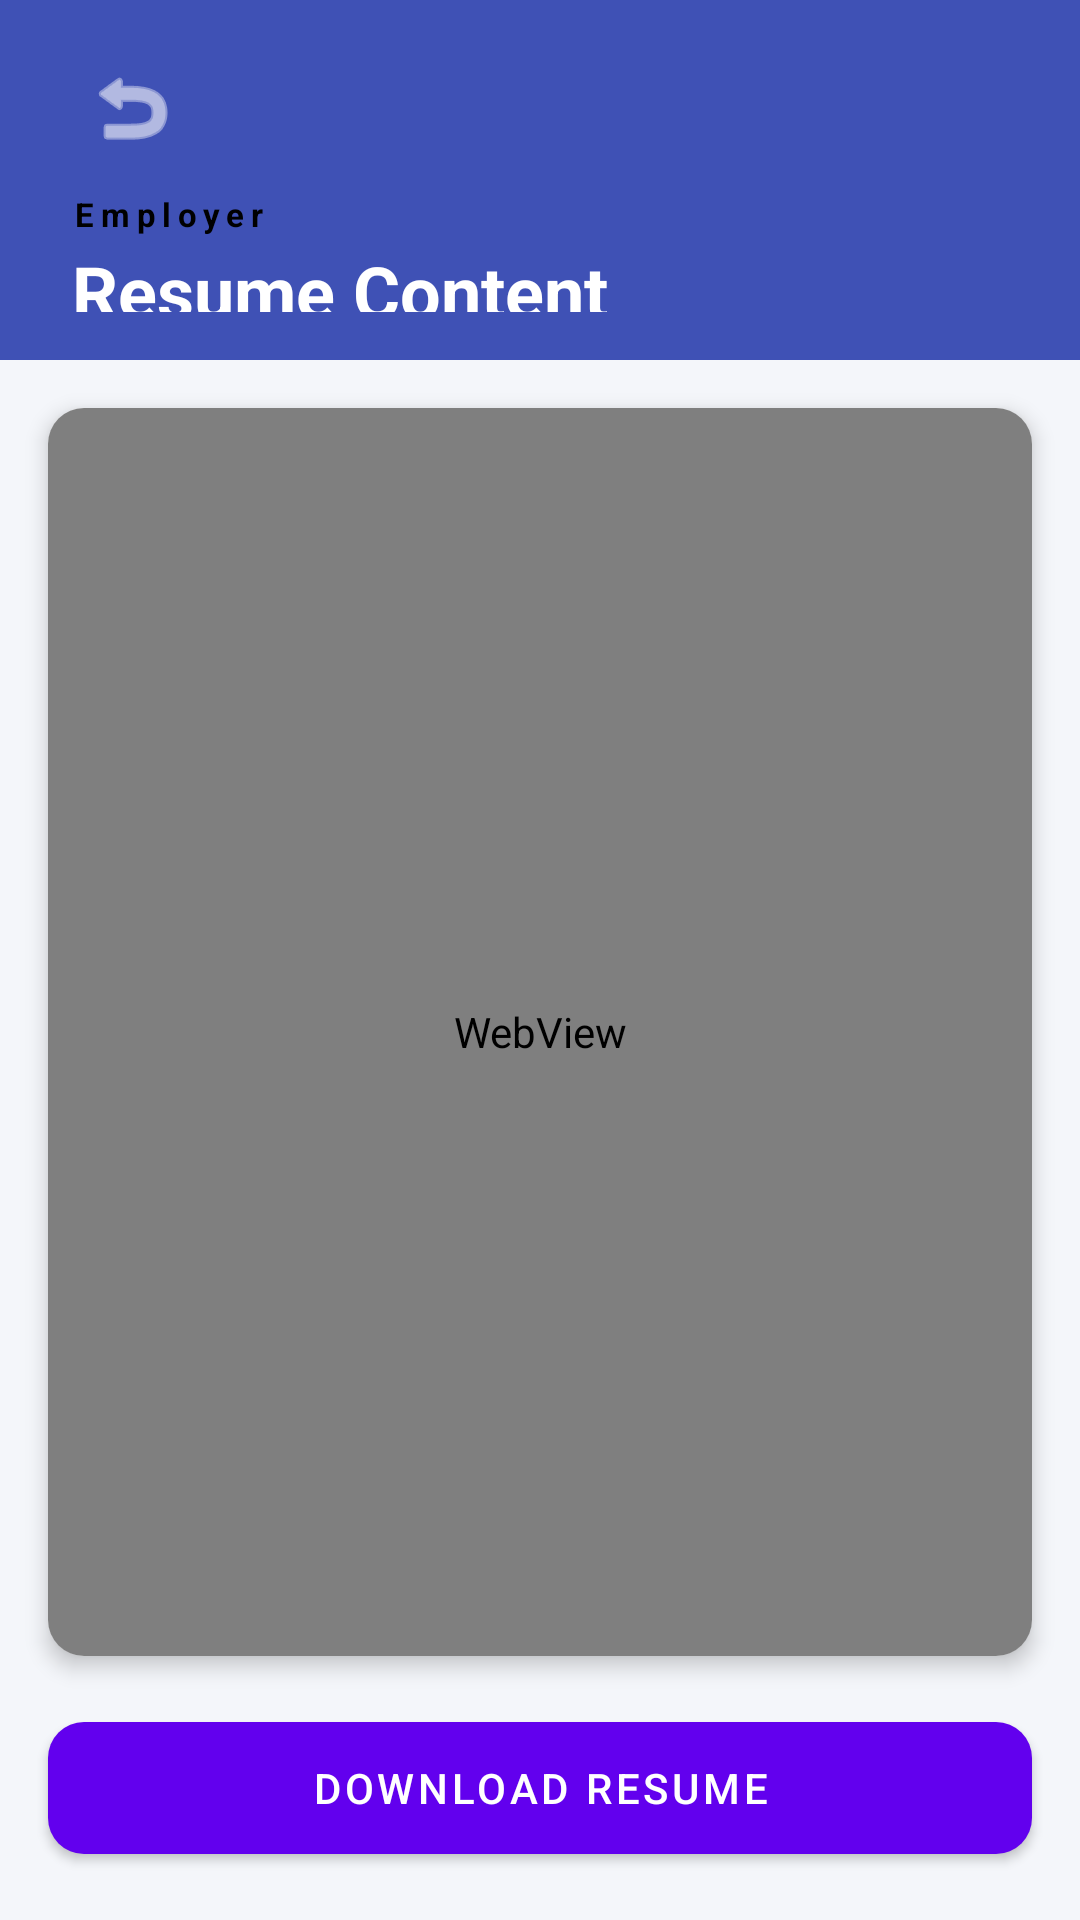

Named icons in this screenshot (1080w x 1920h) and their bounding boxes, bbox(x1, y1, x2, y2):
Back: bbox(99, 77, 168, 140)
